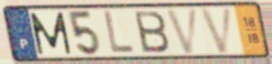5: (65, 8, 103, 58)
B: (132, 10, 172, 54)
L: (102, 9, 136, 56)
M: (28, 11, 74, 56)
V: (164, 6, 201, 56), (198, 6, 235, 55)
